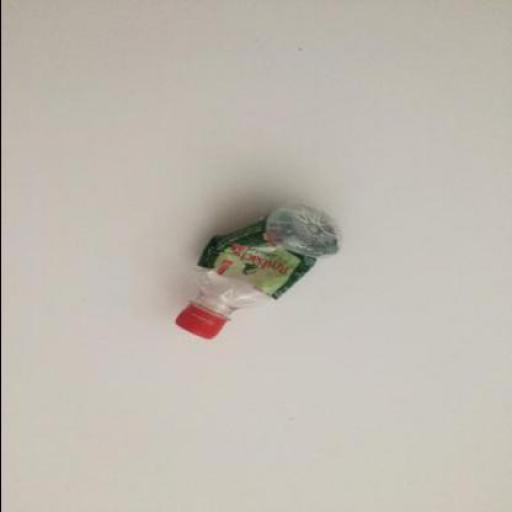plastic: (170, 206, 340, 340), (195, 216, 315, 301), (172, 305, 222, 341)
